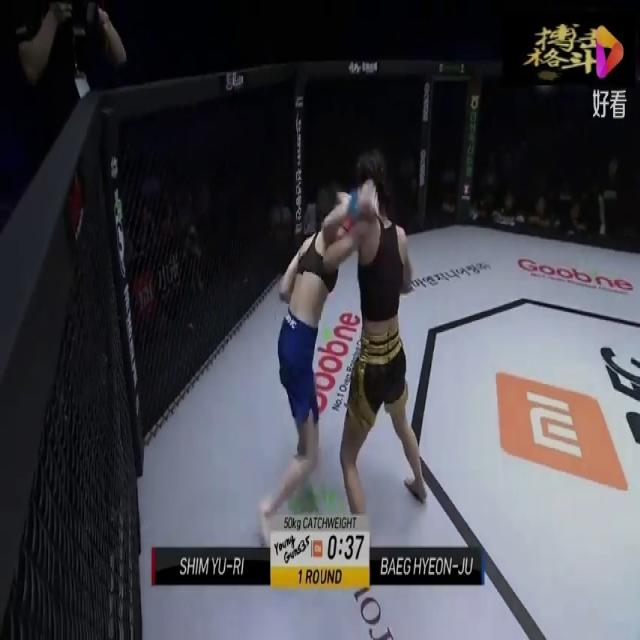fight: (262, 148, 436, 577)
